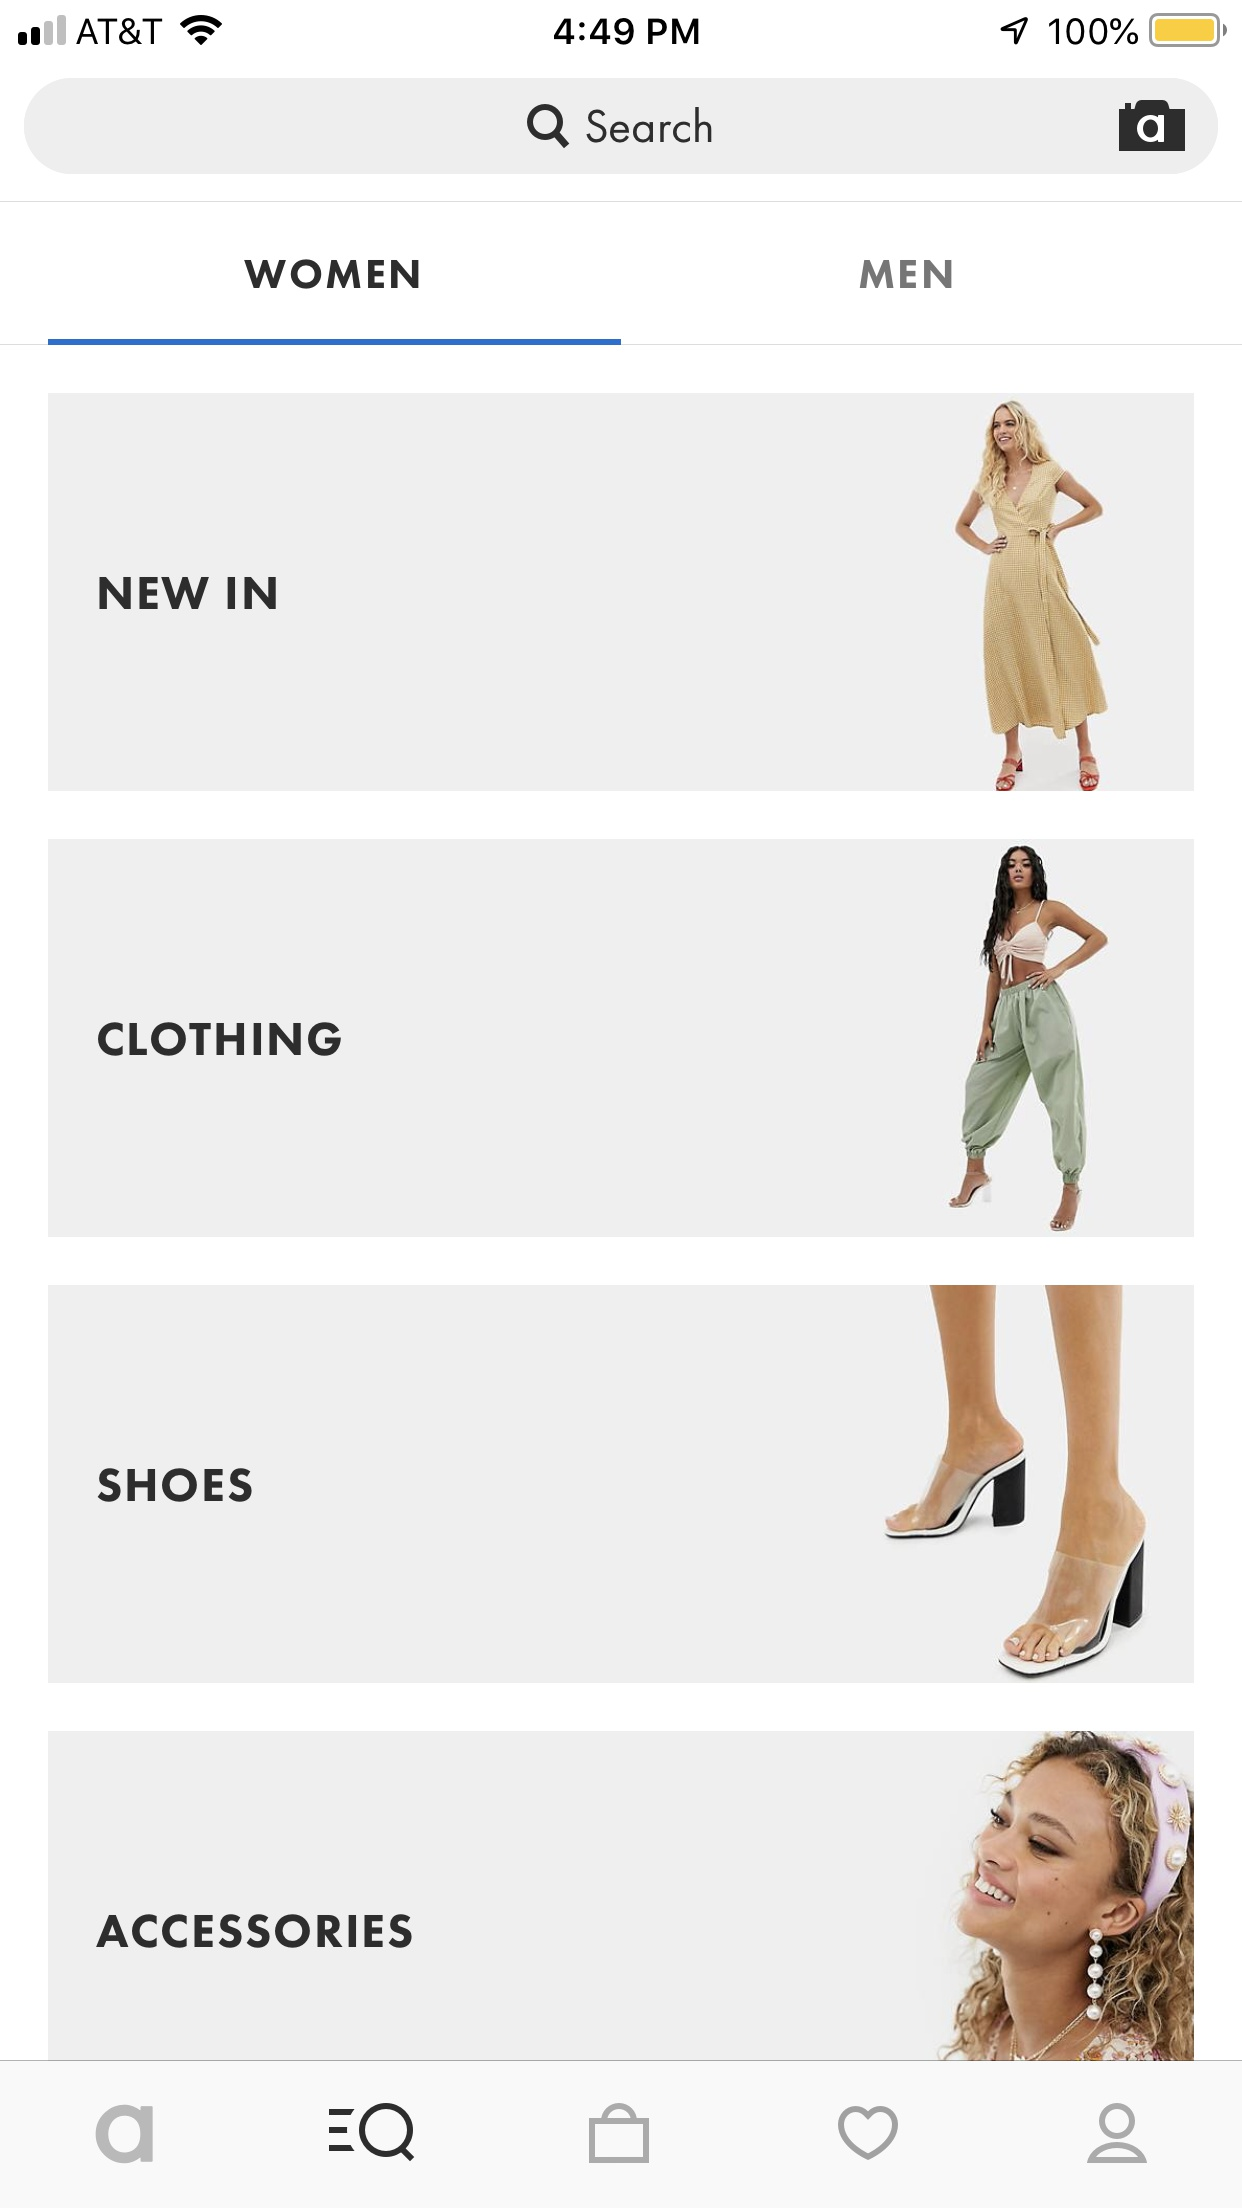EditText: (24, 77, 1218, 174)
Icon: (331, 2102, 416, 2163), (588, 2102, 651, 2164), (1086, 2102, 1148, 2164), (837, 2105, 899, 2161), (528, 105, 570, 149)
Image: (883, 1286, 1148, 1680), (936, 1730, 1193, 2061), (948, 845, 1110, 1233), (952, 399, 1110, 792), (1119, 102, 1184, 152)
Text: (96, 1914, 412, 1949), (99, 1022, 343, 1057), (99, 576, 278, 611), (99, 1468, 253, 1503), (244, 259, 420, 290), (587, 108, 713, 144), (96, 2103, 155, 2164), (860, 259, 952, 290)
UpperTaskBar: (2, 2, 1242, 49)
